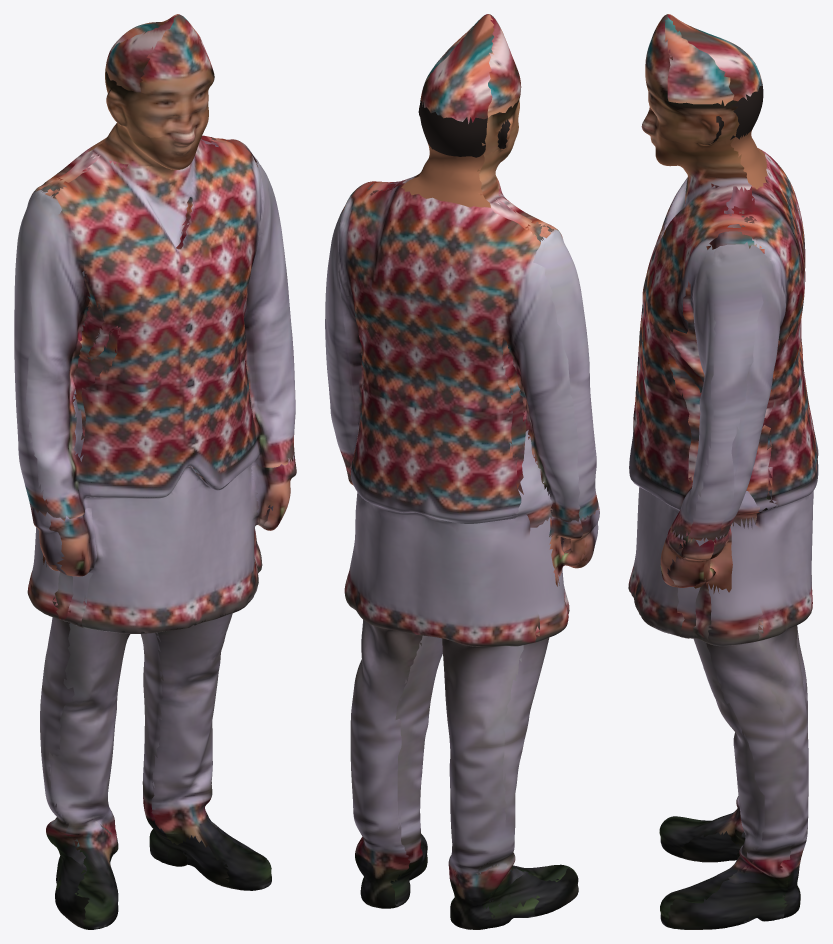
File: nepali_man_v2.glb
The picture shows the model from 3 angles, left to right: view 1: azimuth 30°, elevation 25°; view 2: azimuth 150°, elevation 25°; view 3: azimuth 270°, elevation 25°; orthographic projection. The views are drawn at different scales.
Visible parts, largest first — view 1: istakot, daura, suruwal, shoes, dhaka_topi, hands, head, neck; view 2: istakot, daura, suruwal, dhaka_topi, shoes, neck, head, hands; view 3: daura, istakot, suruwal, shoes, dhaka_topi, head, neck, hands.
Boxes of the visible parts, x1,y1,x2,y2 form: istakot: [36, 135, 268, 498]; daura: [14, 156, 295, 633]; suruwal: [40, 595, 253, 866]; shoes: [49, 827, 271, 929]; dhaka_topi: [105, 14, 214, 99]; hands: [30, 454, 296, 576]; head: [105, 69, 213, 139]; neck: [88, 123, 207, 170]; istakot: [338, 179, 559, 523]; daura: [325, 207, 598, 646]; suruwal: [350, 620, 549, 898]; dhaka_topi: [420, 14, 521, 123]; shoes: [356, 833, 578, 929]; neck: [401, 134, 517, 207]; head: [418, 96, 520, 157]; hands: [345, 464, 599, 586]; daura: [628, 170, 813, 646]; istakot: [629, 150, 818, 511]; suruwal: [636, 608, 808, 884]; shoes: [659, 816, 800, 929]; dhaka_topi: [645, 14, 762, 105]; head: [642, 84, 763, 144]; neck: [641, 126, 767, 193]; hands: [660, 527, 732, 593].
Bounding box in the file's own units: 0.5442 × 1.72 × 0.3403.
8 materials, 8 textured.
